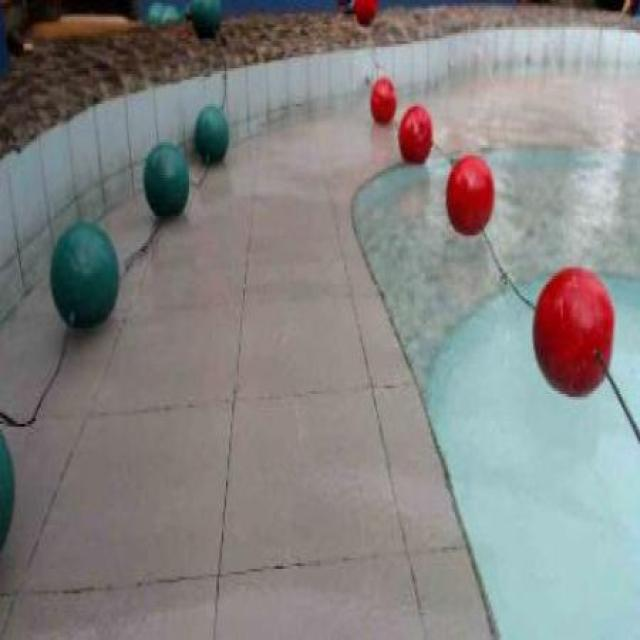buoy: (530, 262, 615, 399), (48, 219, 118, 329), (444, 153, 494, 235), (141, 141, 188, 215), (398, 102, 433, 165), (194, 105, 228, 162), (368, 75, 396, 121)
